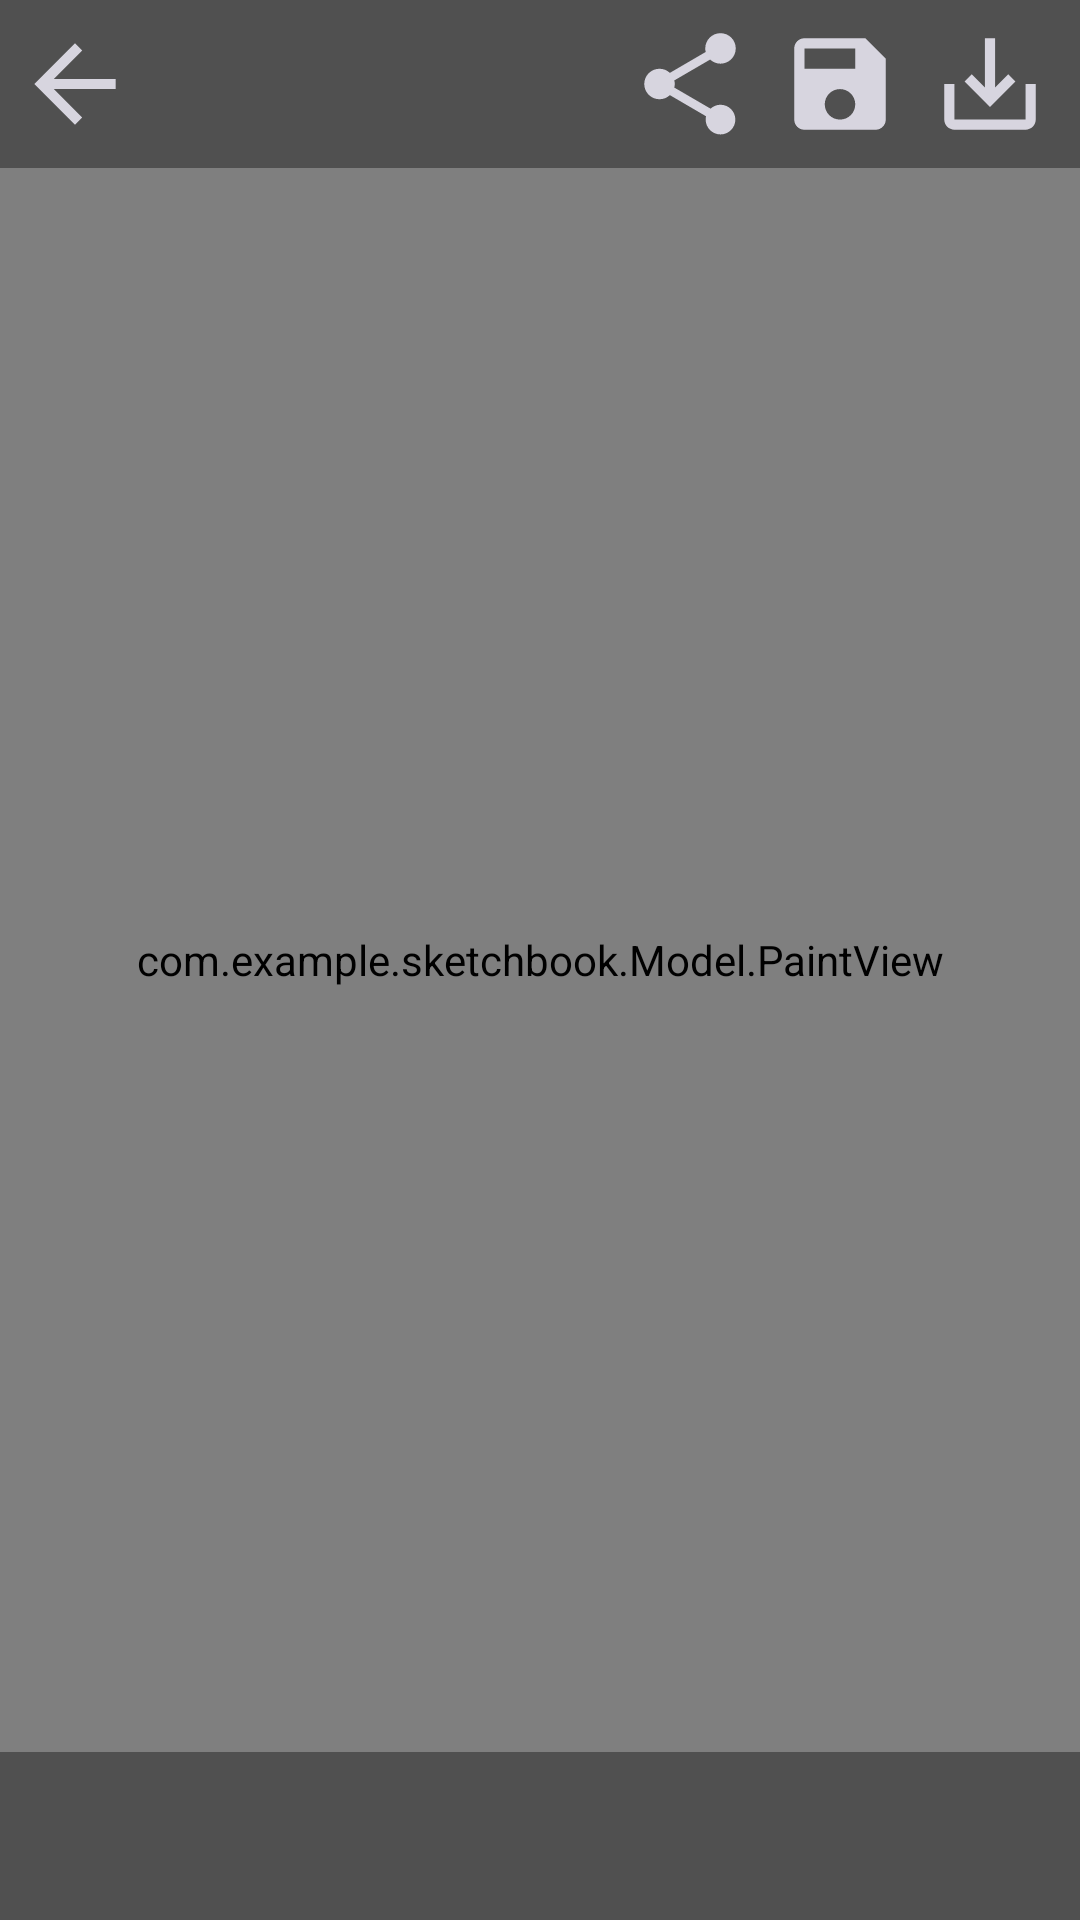

Icon bounding boxes for this 1080×1920 phone screenshot, format (x1, y1, x2, y2):
back: (34, 43, 116, 125)
download: (944, 38, 1036, 130)
save: (794, 38, 886, 130)
share: (644, 33, 736, 135)
